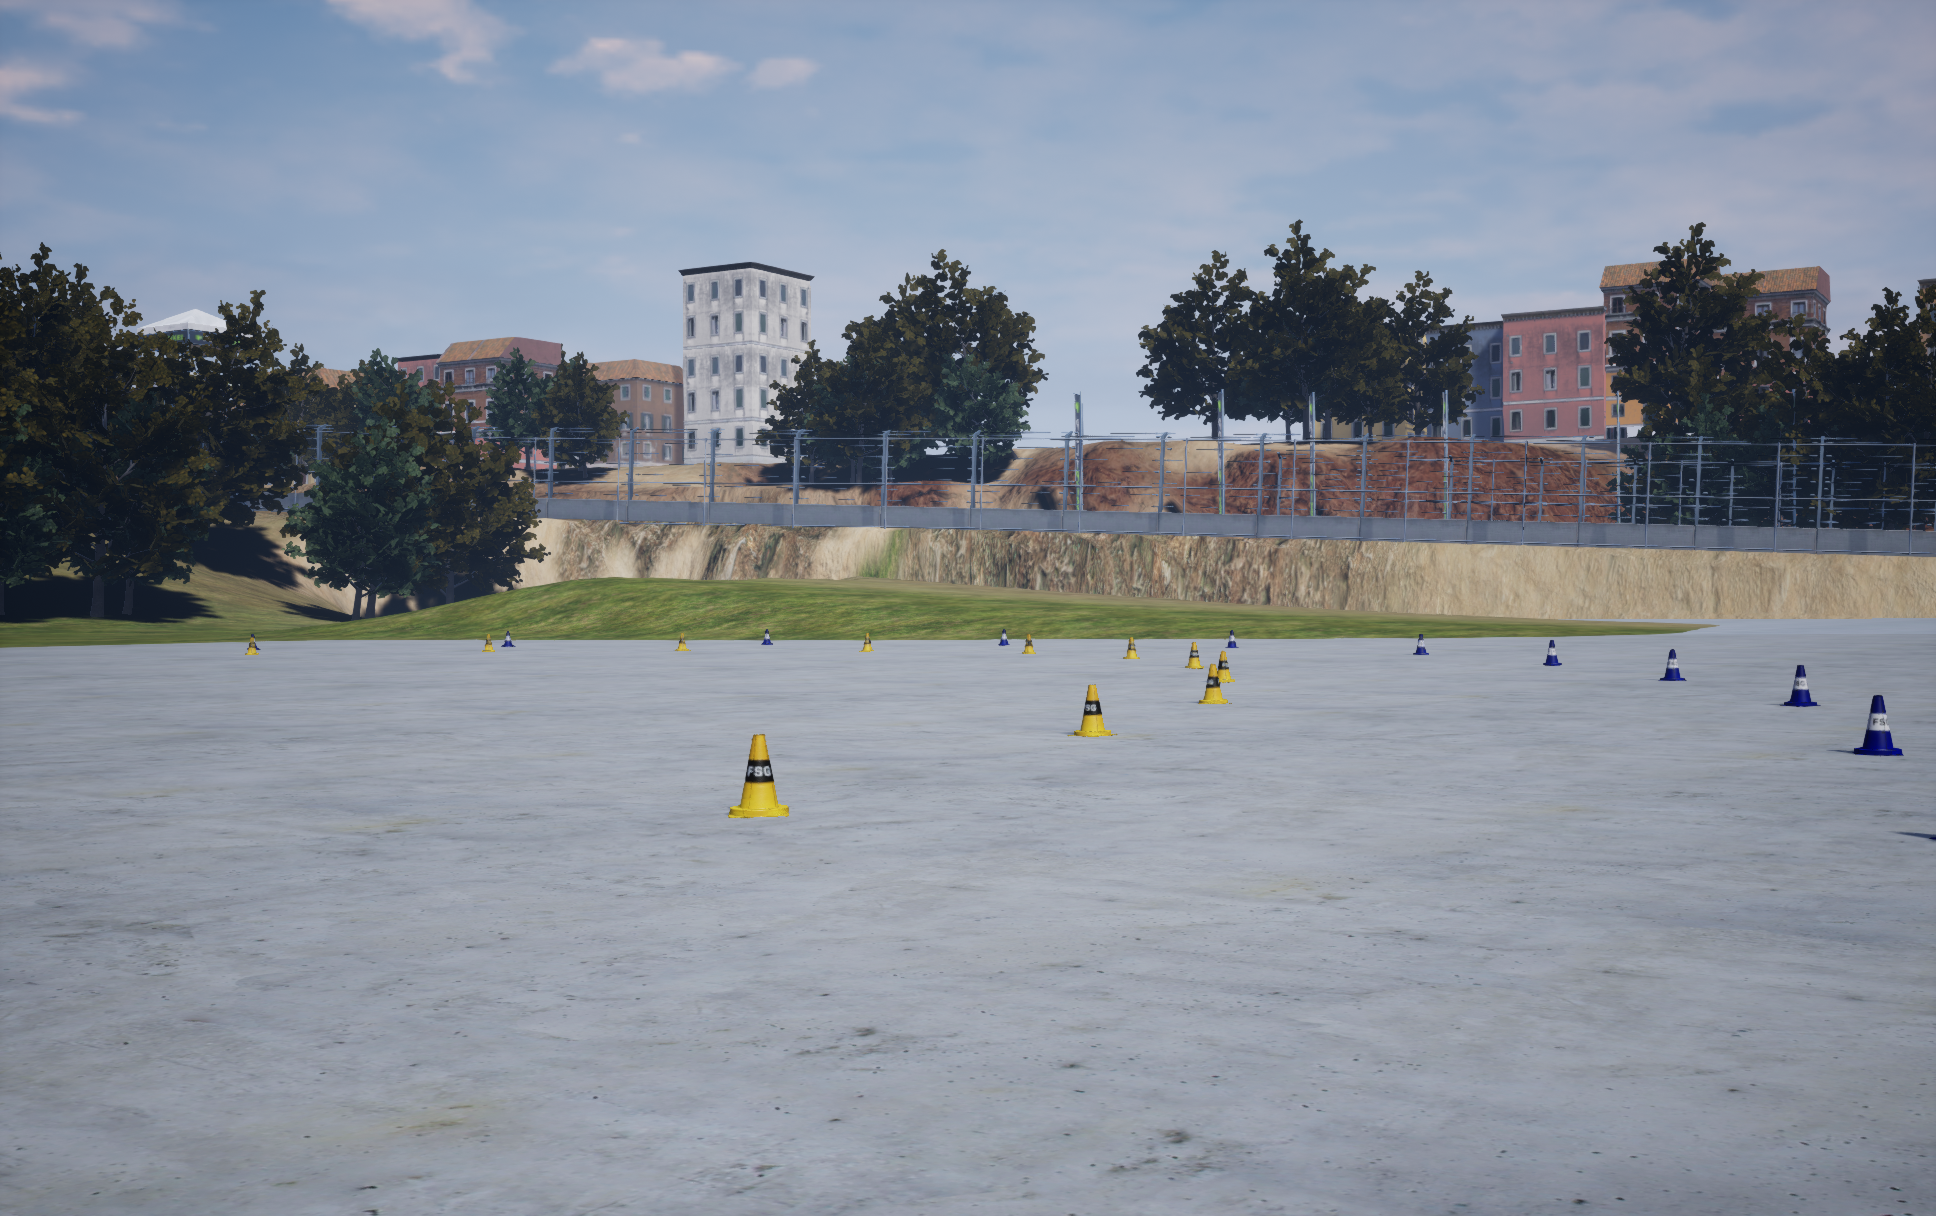blue: (728, 734, 789, 817), (1067, 684, 1116, 735), (1198, 664, 1231, 703), (1217, 651, 1234, 682), (1185, 642, 1203, 668), (1123, 637, 1139, 658), (859, 633, 873, 651), (1023, 635, 1035, 653)
yellow: (1852, 695, 1902, 755), (1781, 665, 1820, 706), (1659, 649, 1687, 679), (1542, 640, 1561, 665), (1413, 635, 1427, 654), (1224, 630, 1238, 647)
